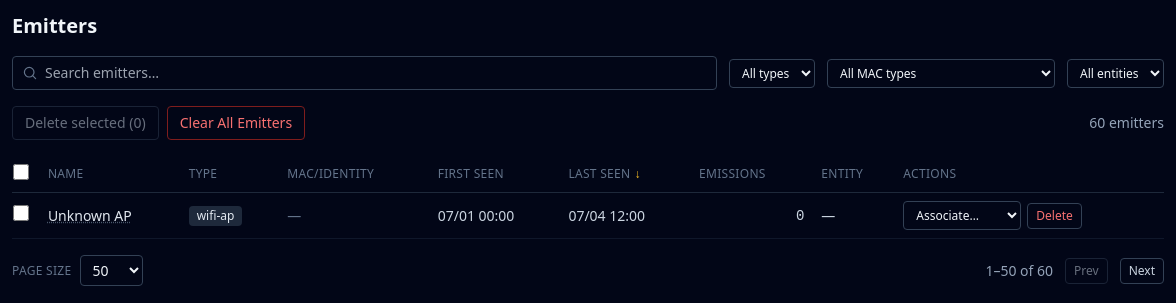
Test: pagination (Next) refetches with the next offset and clears the row selection
The width and height of the screenshot is (1176, 303).
Expected: the row with test id "emitter-row-emitter-1" is shown, [12,192,1164,238]
Step 1. Click the checkbox named "Select emitter emitter-1" → coordinates (21, 213), box [13,205,29,221]
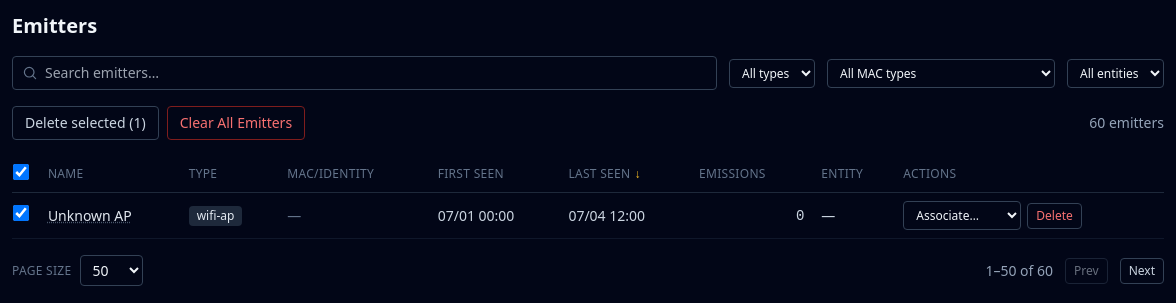
Expected: the button "Delete selected (1)" is enabled, [12,106,159,140]
Step 2. Click the button "Next" → coordinates (1142, 270), box [1120,258,1164,284]
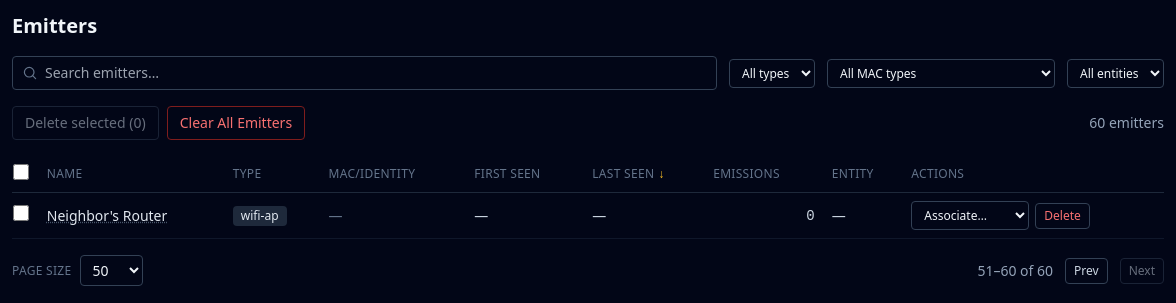
Expected: the row with test id "emitter-row-emitter-2" is shown, [12,192,1164,238]
Expected: the button "Delete selected (0)" is disabled, [12,106,159,140]
